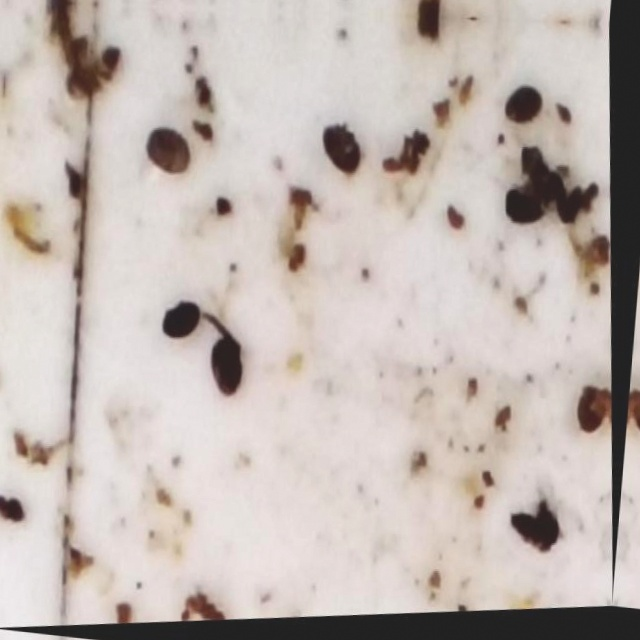varroa: (146, 126, 199, 181), (323, 122, 370, 181), (211, 334, 250, 404), (163, 296, 207, 342), (507, 188, 551, 234), (507, 88, 549, 135)
